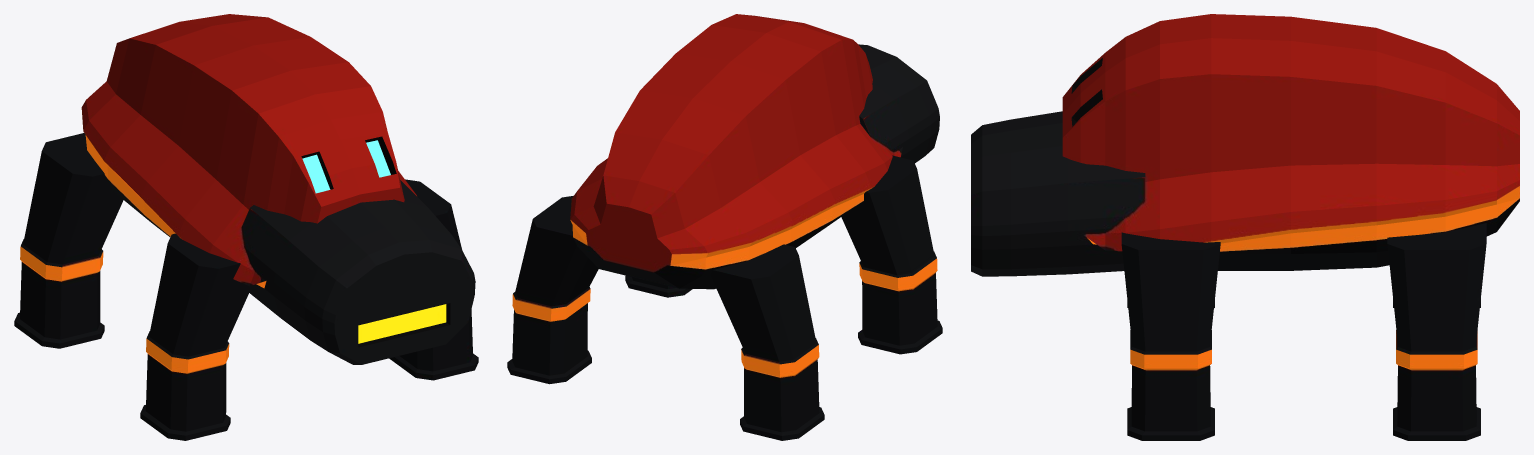
Rendered from crawler.glb.
3 views of the same model, side by side, from view 1: azimuth 30°, elevation 25°; view 2: azimuth 150°, elevation 25°; view 3: azimuth 270°, elevation 25° (orthographic). The views are drawn at different scales.
Parts seen in each view (by area): view 1: GEO-Enemy-Crawler; view 2: GEO-Enemy-Crawler; view 3: GEO-Enemy-Crawler.
Part boxes in pixels (box(x1,y1,x2,y2)): GEO-Enemy-Crawler: box(14, 14, 478, 440); GEO-Enemy-Crawler: box(507, 14, 942, 440); GEO-Enemy-Crawler: box(971, 14, 1519, 440).
Size of the model in its own units: 1.47 by 1.39 by 2.14.
7 materials, 7 textured.
